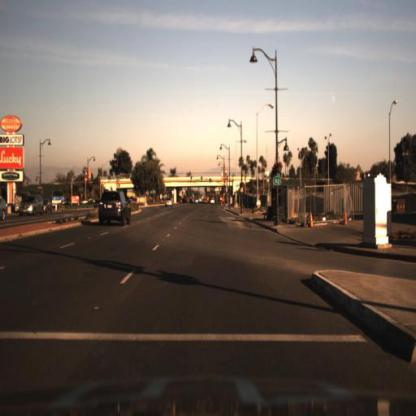biker: (235, 196, 238, 211)
car: (98, 189, 134, 231), (20, 196, 45, 217), (40, 199, 54, 214), (166, 199, 173, 208)
